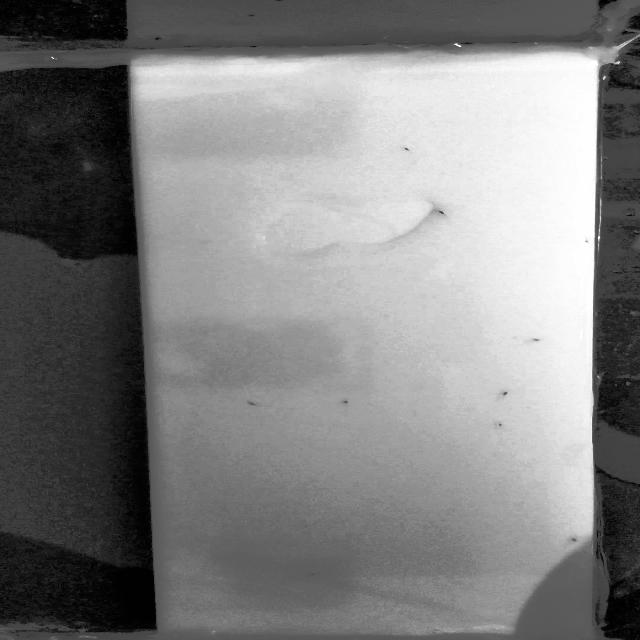shrimp: (300, 569, 328, 581), (394, 144, 417, 154), (496, 390, 517, 400), (432, 208, 454, 217), (570, 536, 584, 546), (338, 399, 357, 406), (526, 337, 545, 344), (494, 419, 506, 429), (242, 401, 259, 408)
